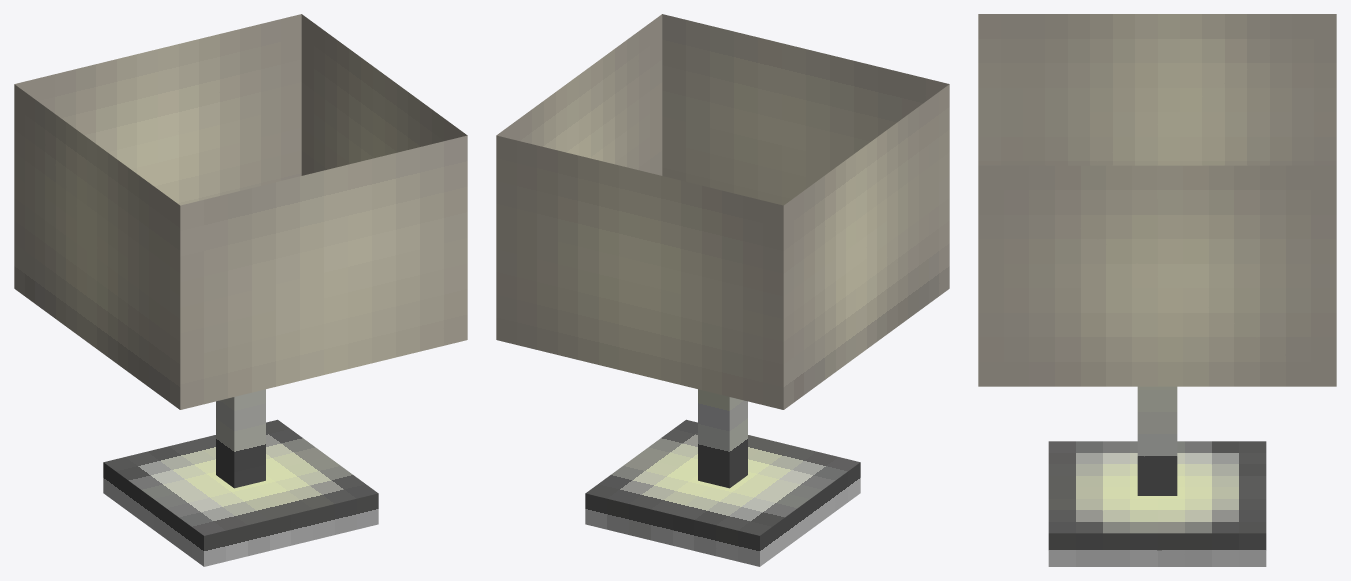
Rendered from DeskLamp.fbx.
The picture shows the model from 3 angles, left to right: view 1: azimuth 30°, elevation 25°; view 2: azimuth 150°, elevation 25°; view 3: azimuth 270°, elevation 25°; orthographic projection. The views are drawn at different scales.
Visible parts, largest first — view 1: DeskRoomLamp; view 2: DeskRoomLamp; view 3: DeskRoomLamp.
Boxes of the visible parts, <box> form: DeskRoomLamp: <box>14,14,467,566</box>; DeskRoomLamp: <box>496,14,949,566</box>; DeskRoomLamp: <box>978,14,1336,566</box>.
Size of the model in its own units: 200 by 265 by 200.
Materials: 1 (1 with a texture image).
